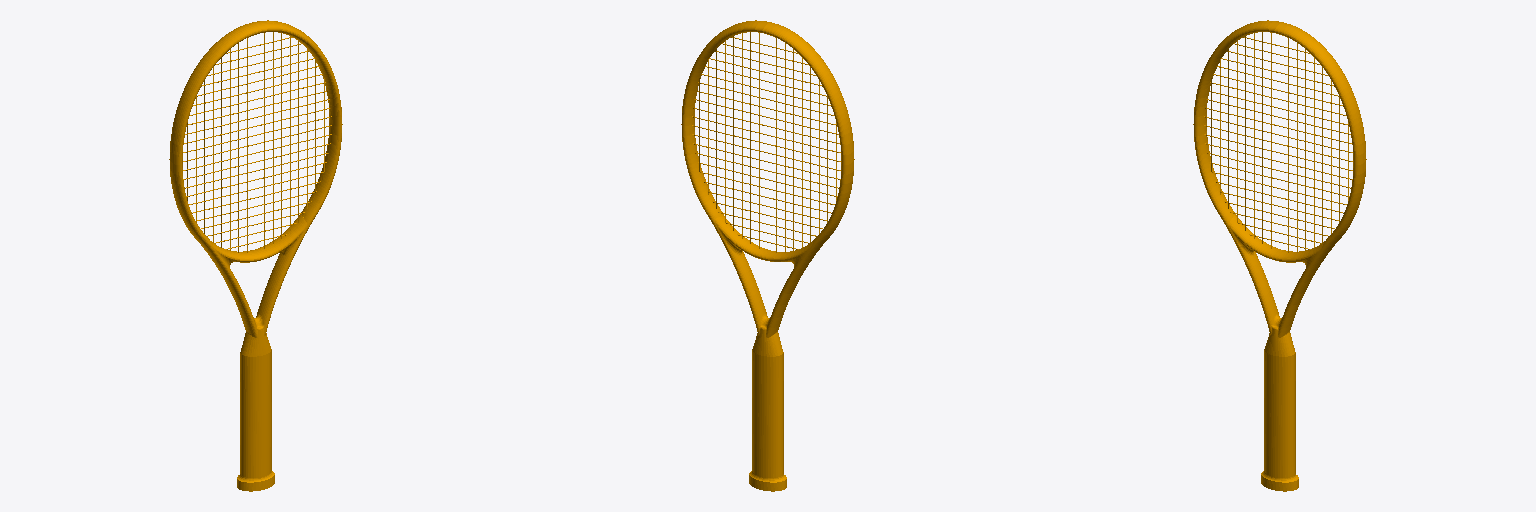
robot.urdf — Squash:
<?xml version="1.0" ?>
<robot name="Squash">

<material name="silver">
  <color rgba="0.700 0.700 0.700 1.000"/>
</material>

<link name="squash">
  <inertial>
    <origin xyz="-0.00023896390945719344 0.0009483593777139662 0.23339040106874281" rpy="0 0 0"/>
    <mass value="0.280"/>
    <inertia ixx="0.05036376935238057" iyy="0.054758376883873944" izz="0.004522339980776297" ixy="-3.6472317852012597e-09" iyz="-3.455058752005187e-07" ixz="-2.2233722833344587e-09"/>
  </inertial>
  <visual>
    <origin xyz="0 0 0" rpy="0 0 0"/>
    <geometry>
      <mesh filename="meshes/squash.stl" scale="0.001 0.001 0.001"/>
    </geometry>
    <material name="silver"/>
    <material/>
  </visual>
  <collision>
    <origin xyz="0 0 0" rpy="0 0 0"/>
    <geometry>
      <mesh filename="meshes/squash.stl" scale="0.001 0.001 0.001"/>
    </geometry>
  </collision>
</link>

</robot>

--- Render facts (derived) ---
3 views of the same robot in one strip: view 1: azimuth 30°, elevation 25°; view 2: azimuth 150°, elevation 25°; view 3: azimuth 330°, elevation 25° (orthographic).
Robot: Squash — 1 links, 0 joints (none); root link squash; default pose: all joints at 0.
Visible links, largest first — view 1: squash; view 2: squash; view 3: squash.
Link boxes in pixels (x1,y1,x2,y2): squash: [169, 20, 342, 491]; squash: [681, 20, 854, 491]; squash: [1193, 20, 1366, 491].
Size in the robot's own frame: 0.1978 by 0.029 by 0.5175 metres.
Meshes: 1 distinct files referenced, 1 mesh visuals loaded (1 binary STL).